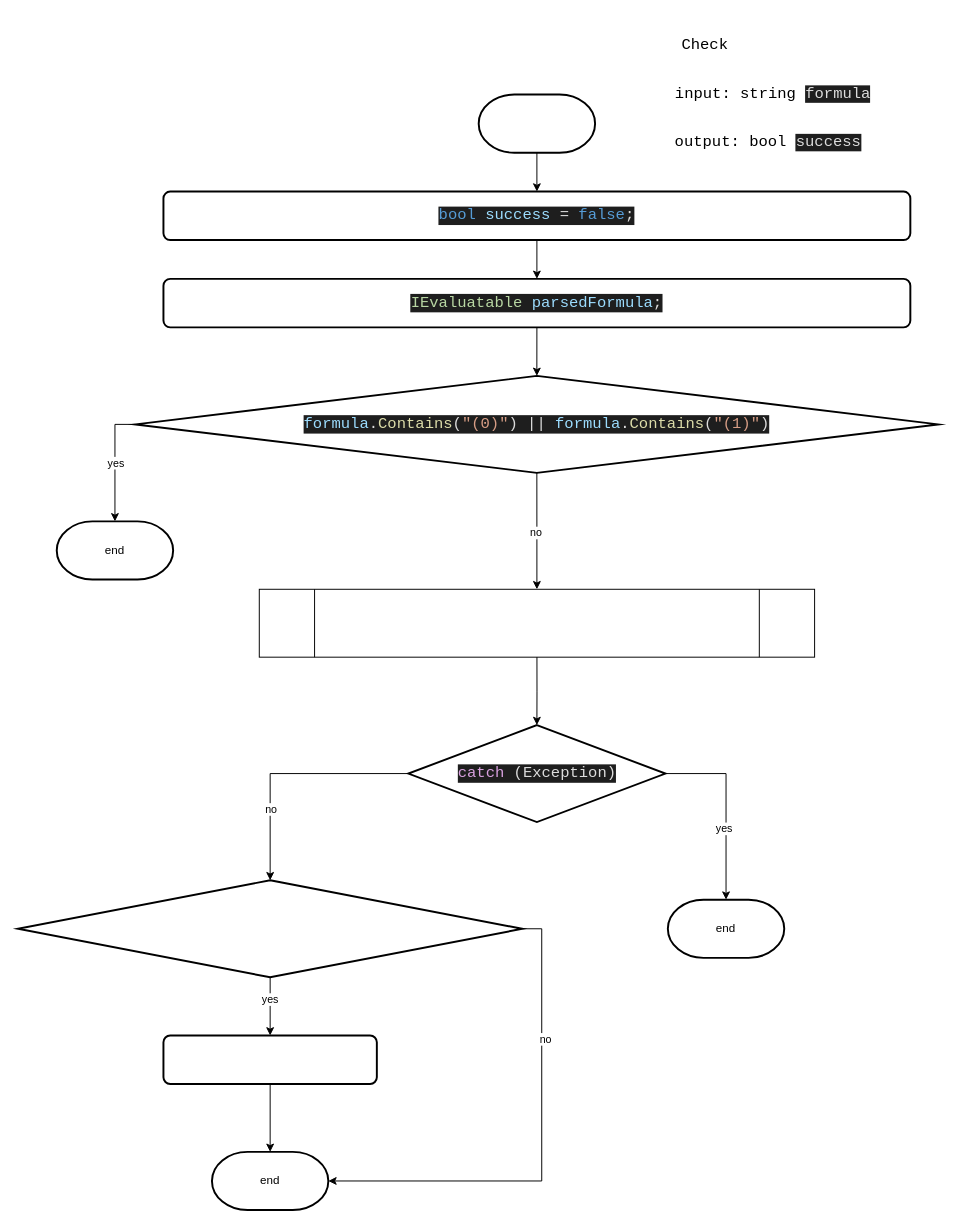
Some shapes in this 955 by 1227 pixel diagram are drawn without their labels. Here are the shapes that lost their labels. From the top down, the box of each, then its label:
(477, 93, 596, 153): begin
(258, 588, 815, 657): try{parsedFormula = FormulaParser . Parse ( formula );}
(16, 879, 523, 978): parsedFormula.ToString() == formula
(162, 1034, 377, 1084): bool success = true ;
